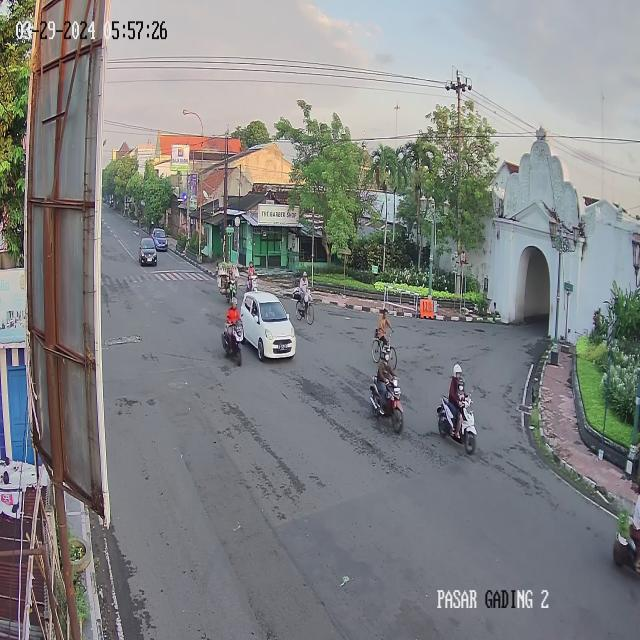car: (235, 290, 297, 364), (138, 237, 158, 268), (151, 227, 169, 253)
motorcycle: (435, 362, 478, 457), (369, 349, 405, 439), (611, 480, 640, 581), (221, 295, 245, 368), (217, 261, 240, 303), (245, 258, 260, 299)
